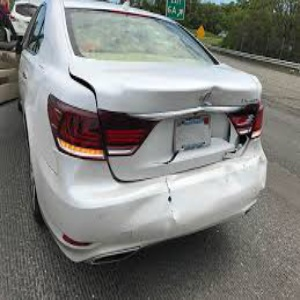bumper_scratch: (118, 176, 212, 236)
